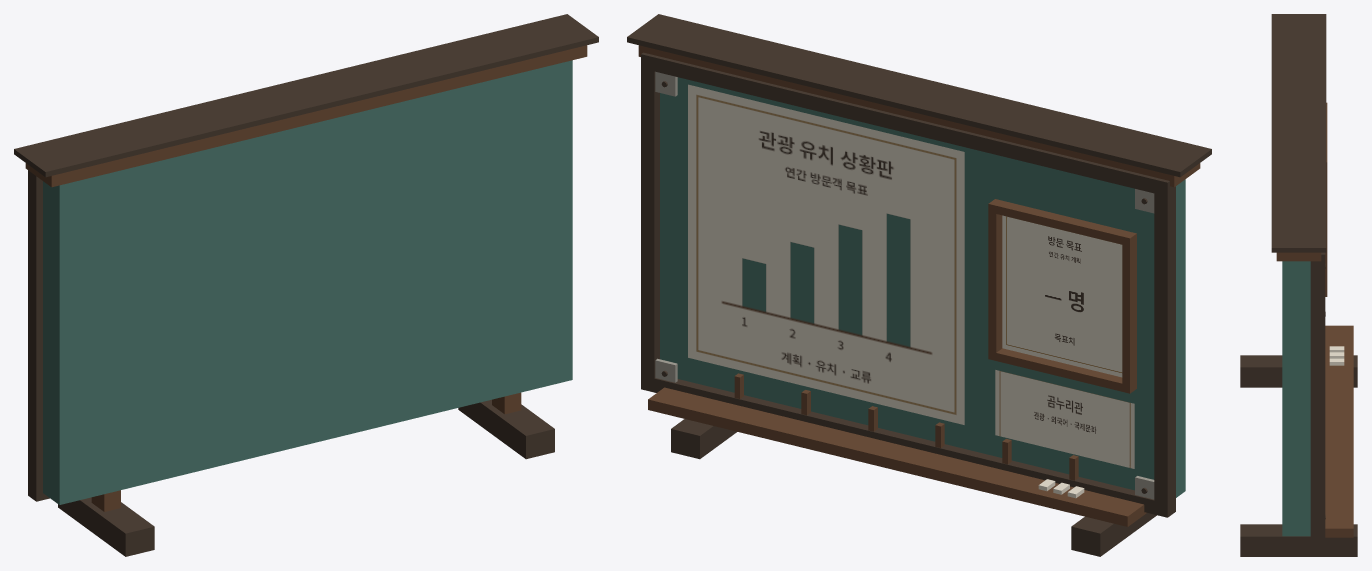
The model's file is N01_Tourism_Target_Board.fbx.
The picture shows the model from 3 angles, left to right: view 1: azimuth 30°, elevation 25°; view 2: azimuth 150°, elevation 25°; view 3: azimuth 270°, elevation 25°; orthographic projection. The views are drawn at different scales.
Visible parts, largest first — view 1: Structure; view 2: Structure, Panel, Target_Number; view 3: Structure.
Part boxes in pixels (x1=…): Structure: x1=14, y1=14, x2=598, y2=556; Structure: x1=627, y1=14, x2=1211, y2=556; Panel: x1=688, y1=84, x2=964, y2=424; Target_Number: x1=1002, y1=215, x2=1122, y2=377; Structure: x1=1240, y1=14, x2=1357, y2=556.
Size of the model in its own units: 4.96 by 3.31 by 1.05.
7 materials, 2 textured.
